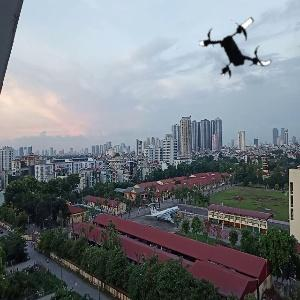drone: (201, 9, 278, 86)
